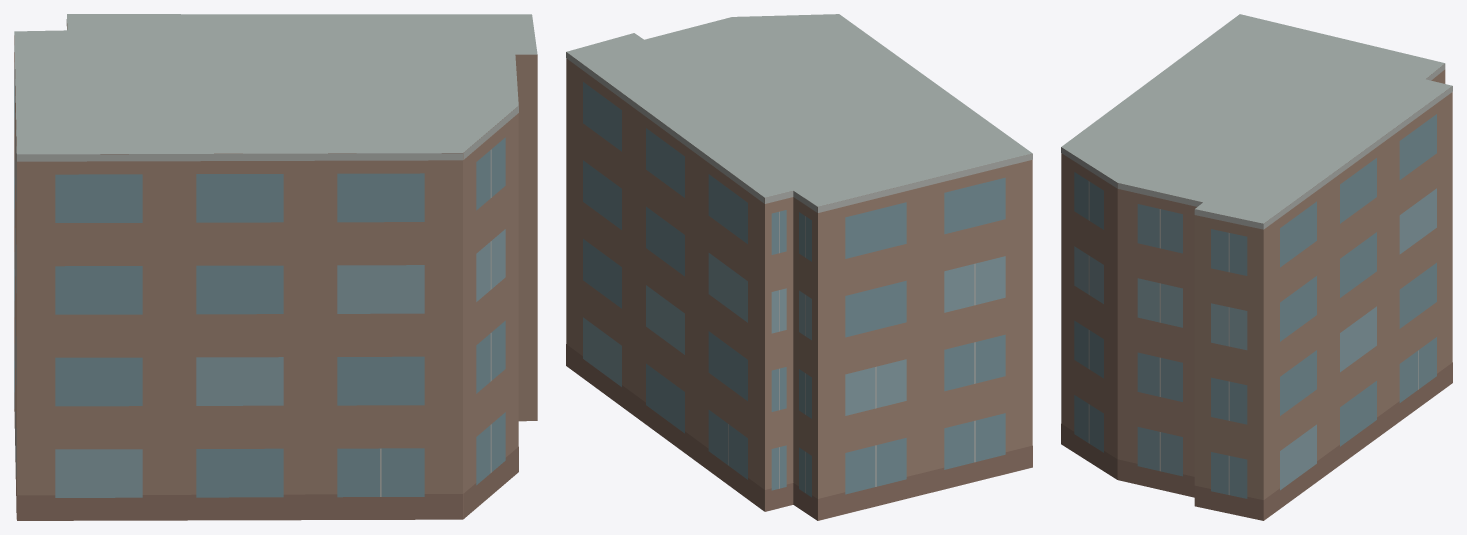
The model's file is survey-upis-32595068.glb.
3 views of the same model, side by side, from view 1: azimuth 30°, elevation 25°; view 2: azimuth 150°, elevation 25°; view 3: azimuth 270°, elevation 25° (orthographic). The views are drawn at different scales.
Parts seen in each view (by area): view 1: survey-upis-32595068.tmp; view 2: survey-upis-32595068.tmp; view 3: survey-upis-32595068.tmp.
Part boxes in pixels (left/top/right/bottom): survey-upis-32595068.tmp: left=14, top=14, right=537, bottom=520; survey-upis-32595068.tmp: left=566, top=14, right=1032, bottom=520; survey-upis-32595068.tmp: left=1061, top=14, right=1452, bottom=520.
Size of the model in its own units: 18.47 by 12.2 by 14.58.
